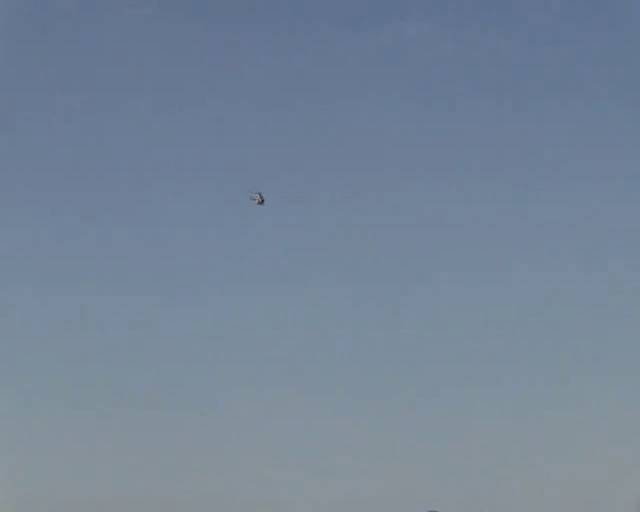HELICOPTER: (249, 191, 265, 205)
